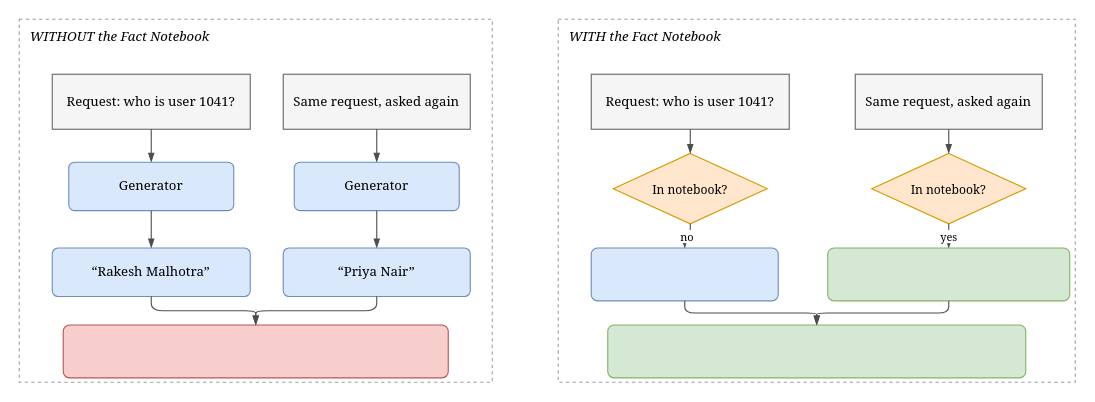
The diagram is 1095 pixels wide and 402 high, and some of its shapes have lost their labels. The centre of each missing label's shape, as x and y in pixels:
"CONTRADICTION decoy detected — 100% rate" goes at [255,351].
"Generator, then write-once put" goes at [684,274].
"NO CONTRADICTION 0% rate over 286 probes" goes at [816,351].
"“Rakesh Malhotra” same value, by construction" goes at [948,274].
